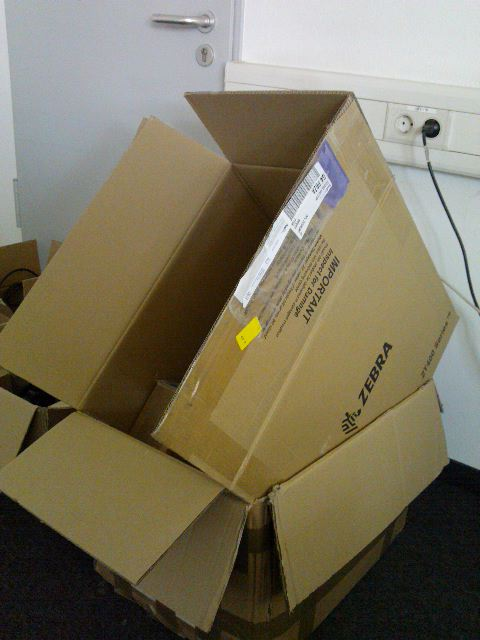label: (229, 162, 331, 310)
package: (0, 92, 463, 576), (89, 377, 454, 640)
